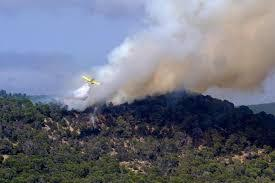smoke: (60, 0, 275, 108)
